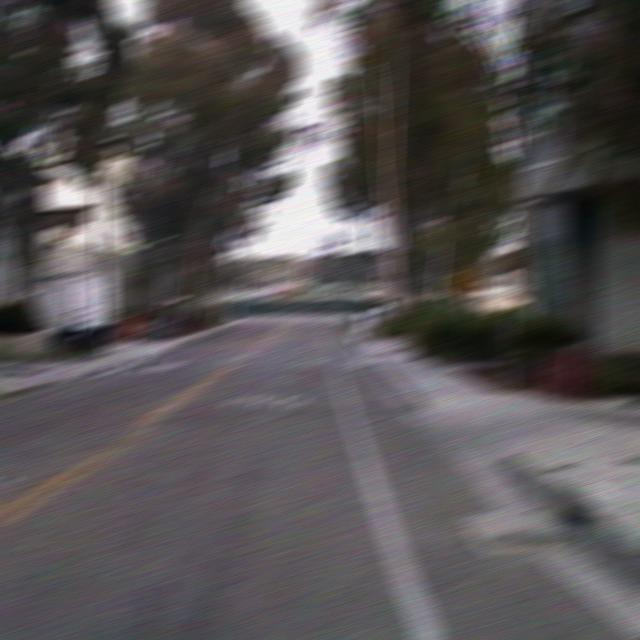pedestrianCrossing: (450, 257, 481, 296)
